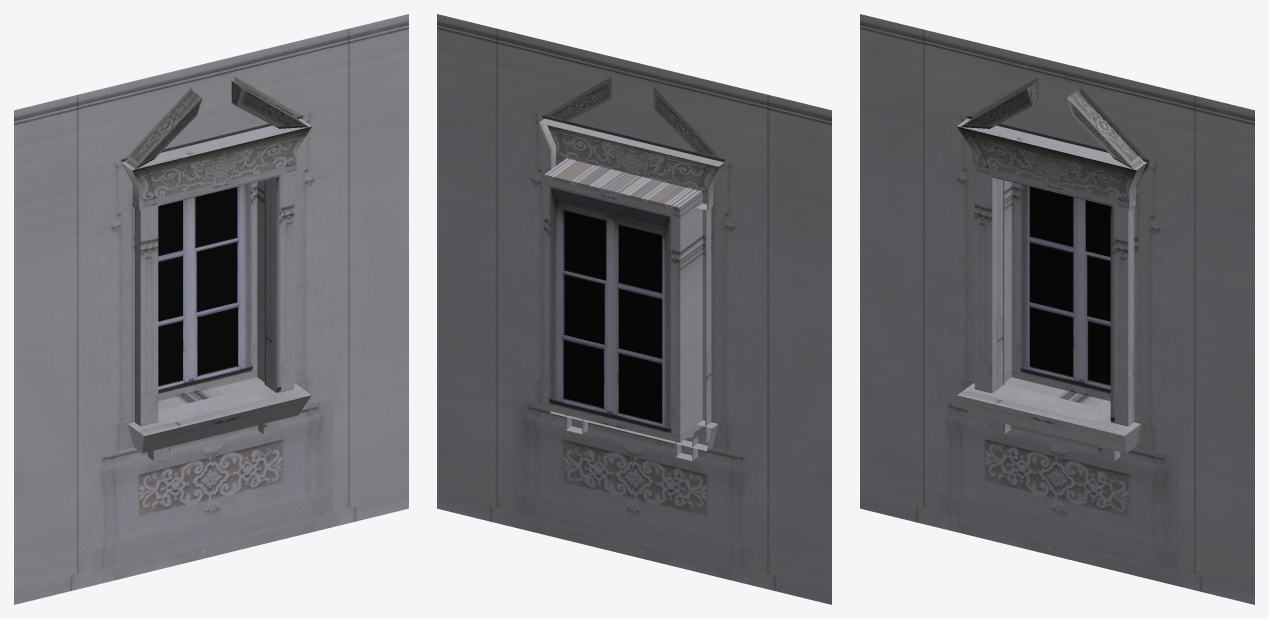
File: fenster2.obj
The picture shows the model from 3 angles, left to right: view 1: azimuth 30°, elevation 25°; view 2: azimuth 150°, elevation 25°; view 3: azimuth 330°, elevation 25°; orthographic projection.
Parts seen in each view (by area): view 1: polySurface180; view 2: polySurface180; view 3: polySurface180.
Boxes of the visible parts, x1,y1,x2,y2 form: polySurface180: (14,14,408,604); polySurface180: (437,14,831,604); polySurface180: (860,14,1254,604).
Bounding box in the file's own units: 1 × 1.2 × 0.1705.
1 material, 1 textured.
